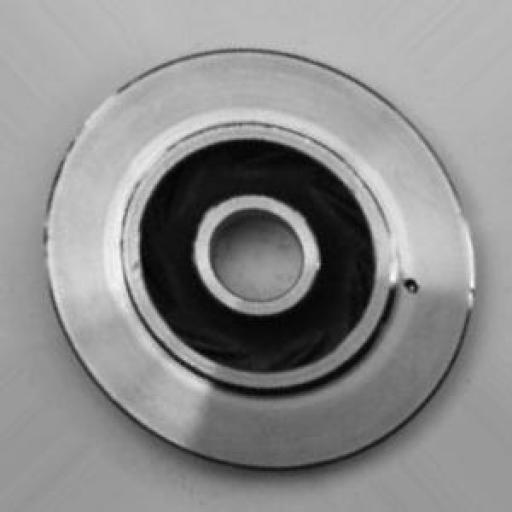defect: (370, 254, 449, 324)
